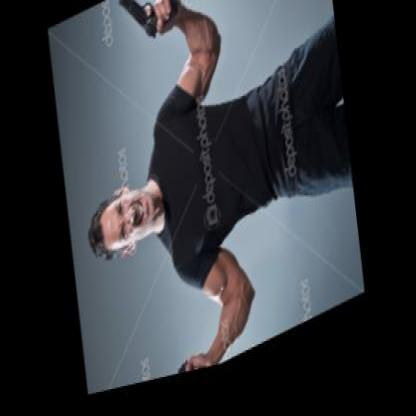pistol: (107, 0, 178, 68), (149, 343, 220, 385)
